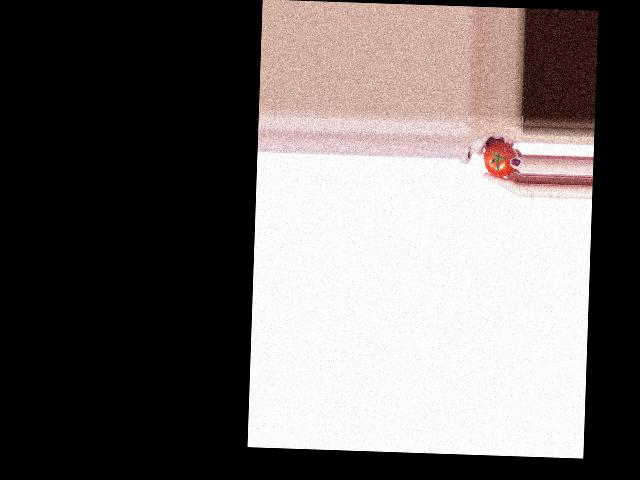tomato: (483, 142, 518, 178)
